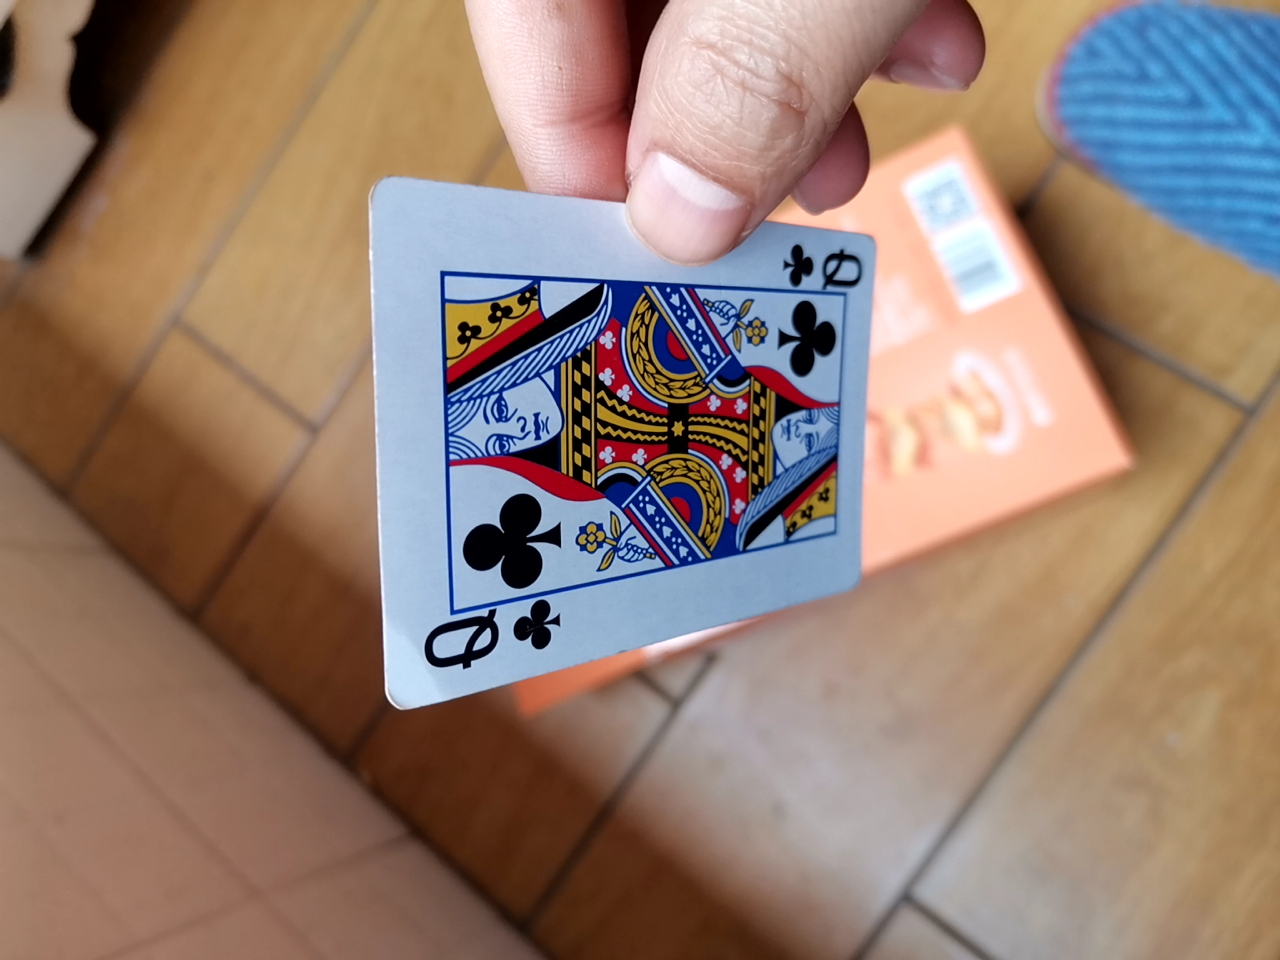mh q: (340, 166, 968, 703)
